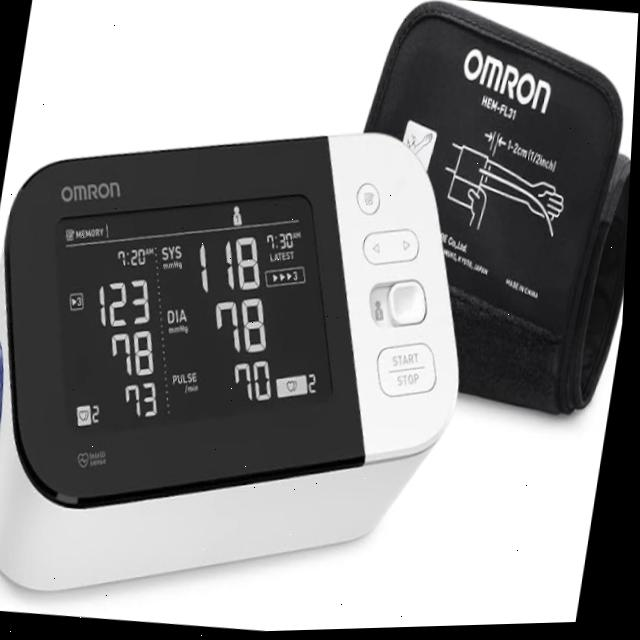dia: (215, 293, 277, 362), (109, 326, 163, 382)
pul: (232, 358, 284, 410), (123, 374, 166, 427)
ssd: (49, 189, 335, 434)
sys: (197, 232, 269, 299), (96, 274, 157, 334)
